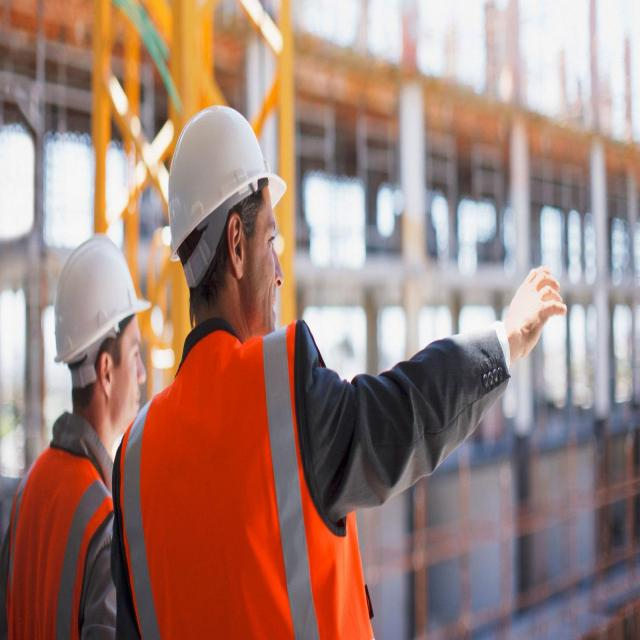Reflective-Jacket: (118, 324, 374, 640), (1, 431, 118, 640)
Safety-Helmet: (161, 94, 288, 264), (46, 222, 152, 371)
